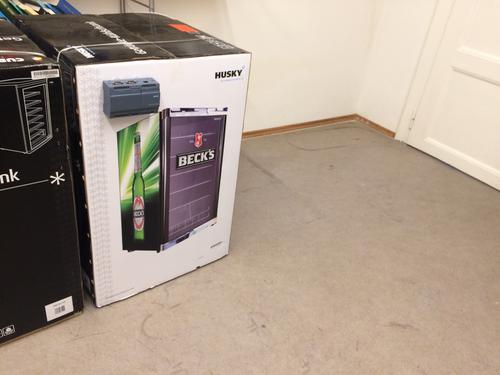iot2000: (103, 77, 162, 120)
